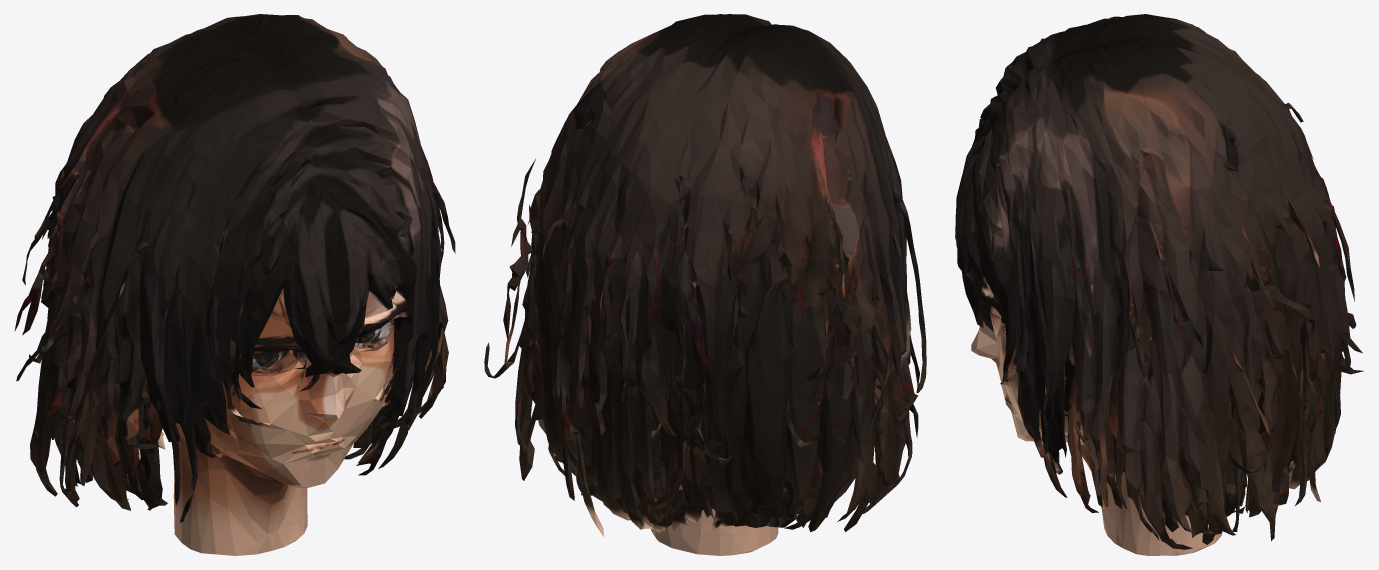
Rendered from side_h_suzume_repaired_atlas.glb.
The picture shows the model from 3 angles, left to right: view 1: azimuth 30°, elevation 25°; view 2: azimuth 150°, elevation 25°; view 3: azimuth 270°, elevation 25°; orthographic projection. The views are drawn at different scales.
Parts seen in each view (by area): view 1: temp_mesh.ply; view 2: temp_mesh.ply; view 3: temp_mesh.ply.
Part boxes in pixels (x1,y1,x2,y2): temp_mesh.ply: [14, 14, 455, 555]; temp_mesh.ply: [484, 14, 926, 555]; temp_mesh.ply: [955, 14, 1363, 555].
Bounding box in the file's own units: 1.63 × 1.97 × 1.48.
Materials: 1 (1 with a texture image).
